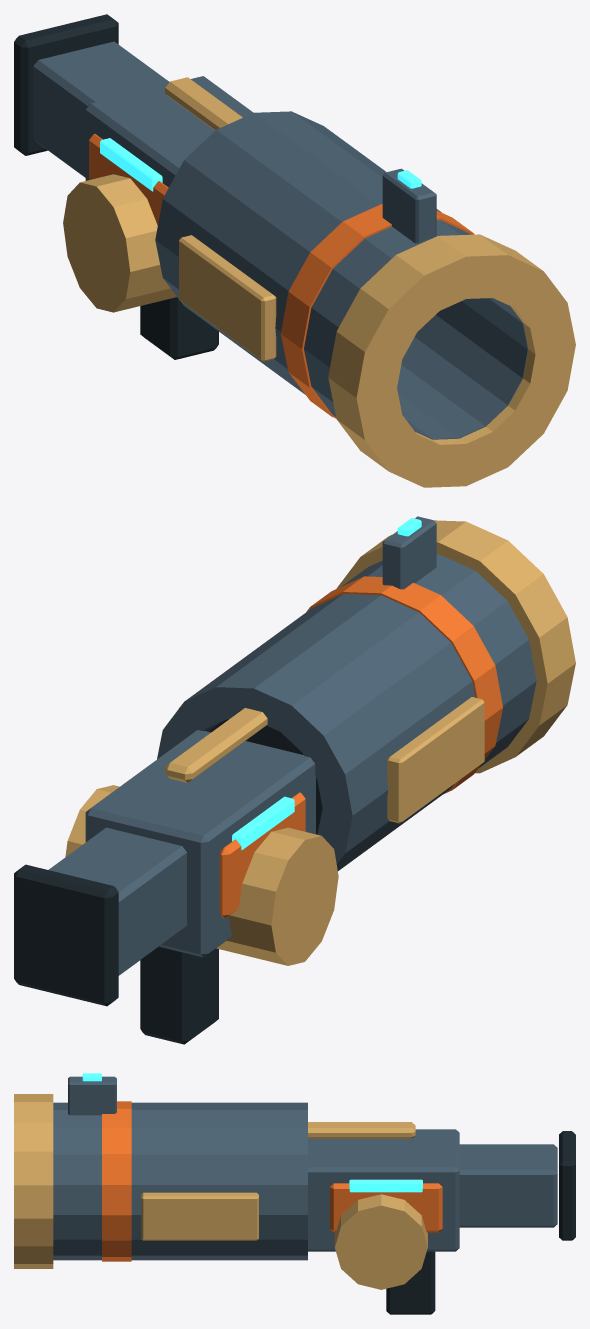
The model's file is wild-launcher.glb.
3 views of the same model, one above another, from view 1: azimuth 30°, elevation 25°; view 2: azimuth 150°, elevation 25°; view 3: azimuth 270°, elevation 25° (orthographic). The views are drawn at different scales.
Visible parts, largest first — view 1: WildsparkSlide, WildsparkReceiver.001; view 2: WildsparkSlide, WildsparkReceiver.001; view 3: WildsparkSlide, WildsparkReceiver.001.
Part boxes in pixels (x1,y1,x2,y2): WildsparkSlide: [155, 111, 575, 487]; WildsparkReceiver.001: [14, 14, 253, 359]; WildsparkSlide: [157, 516, 575, 870]; WildsparkReceiver.001: [14, 708, 338, 1044]; WildsparkSlide: [14, 1073, 307, 1268]; WildsparkReceiver.001: [308, 1122, 575, 1314].
Size of the model in its own units: 0.365 by 0.5255 by 1.15.
